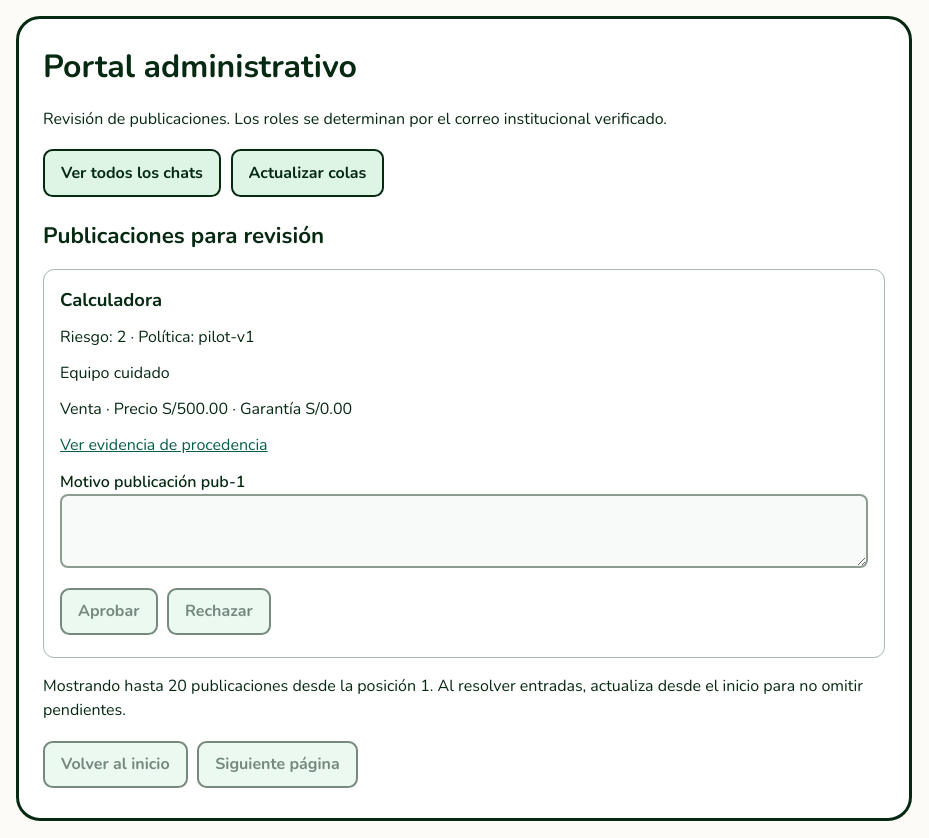
Scenario: requires review reasons, sends exact cycle token, and renders the server decision
Expected: the button "Aprobar" is disabled, [60,588,158,635]
Step 1. Type "Comprobado" into the text box labelled "Motivo publicación pub-1" → (464,531), box [60,494,868,568]
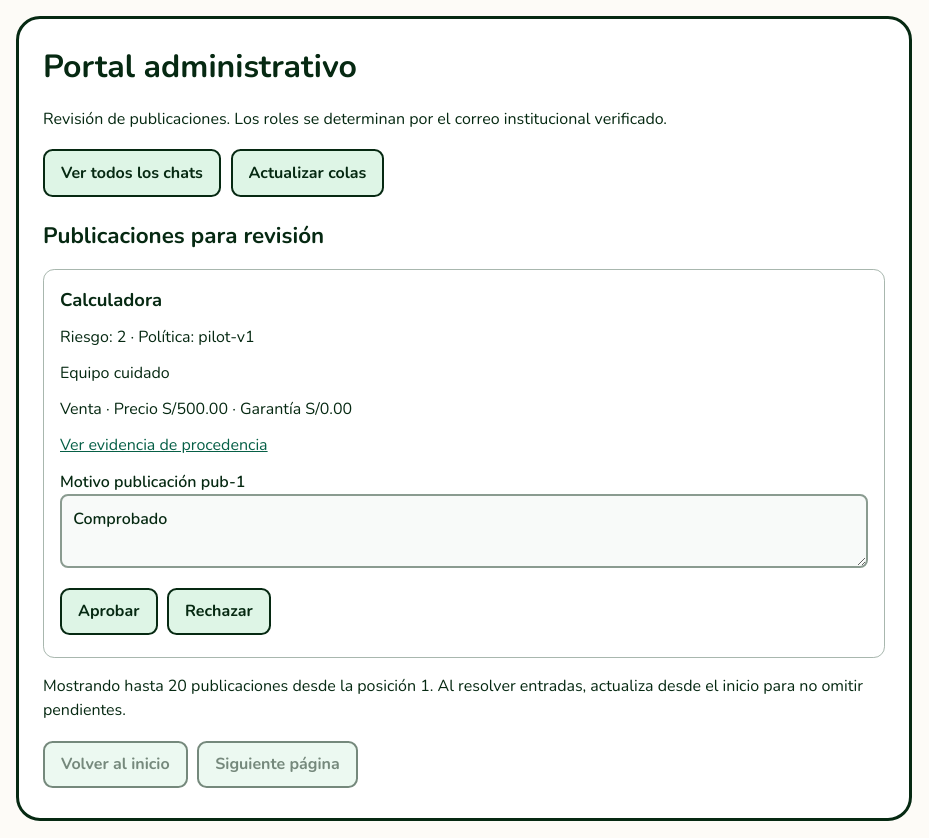
Step 2. Click the button "Aprobar" → (109,611), box [60,588,158,635]
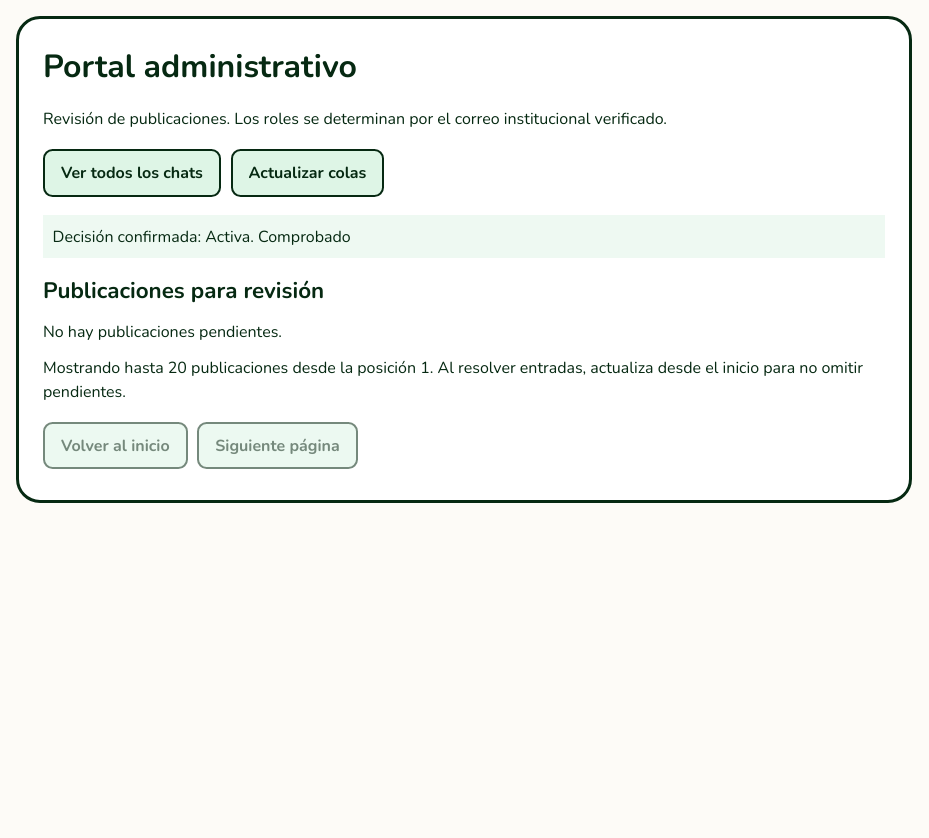
Expected: the text "Decisión confirmada: Activa. Comprobado" is shown, [43,215,885,258]
